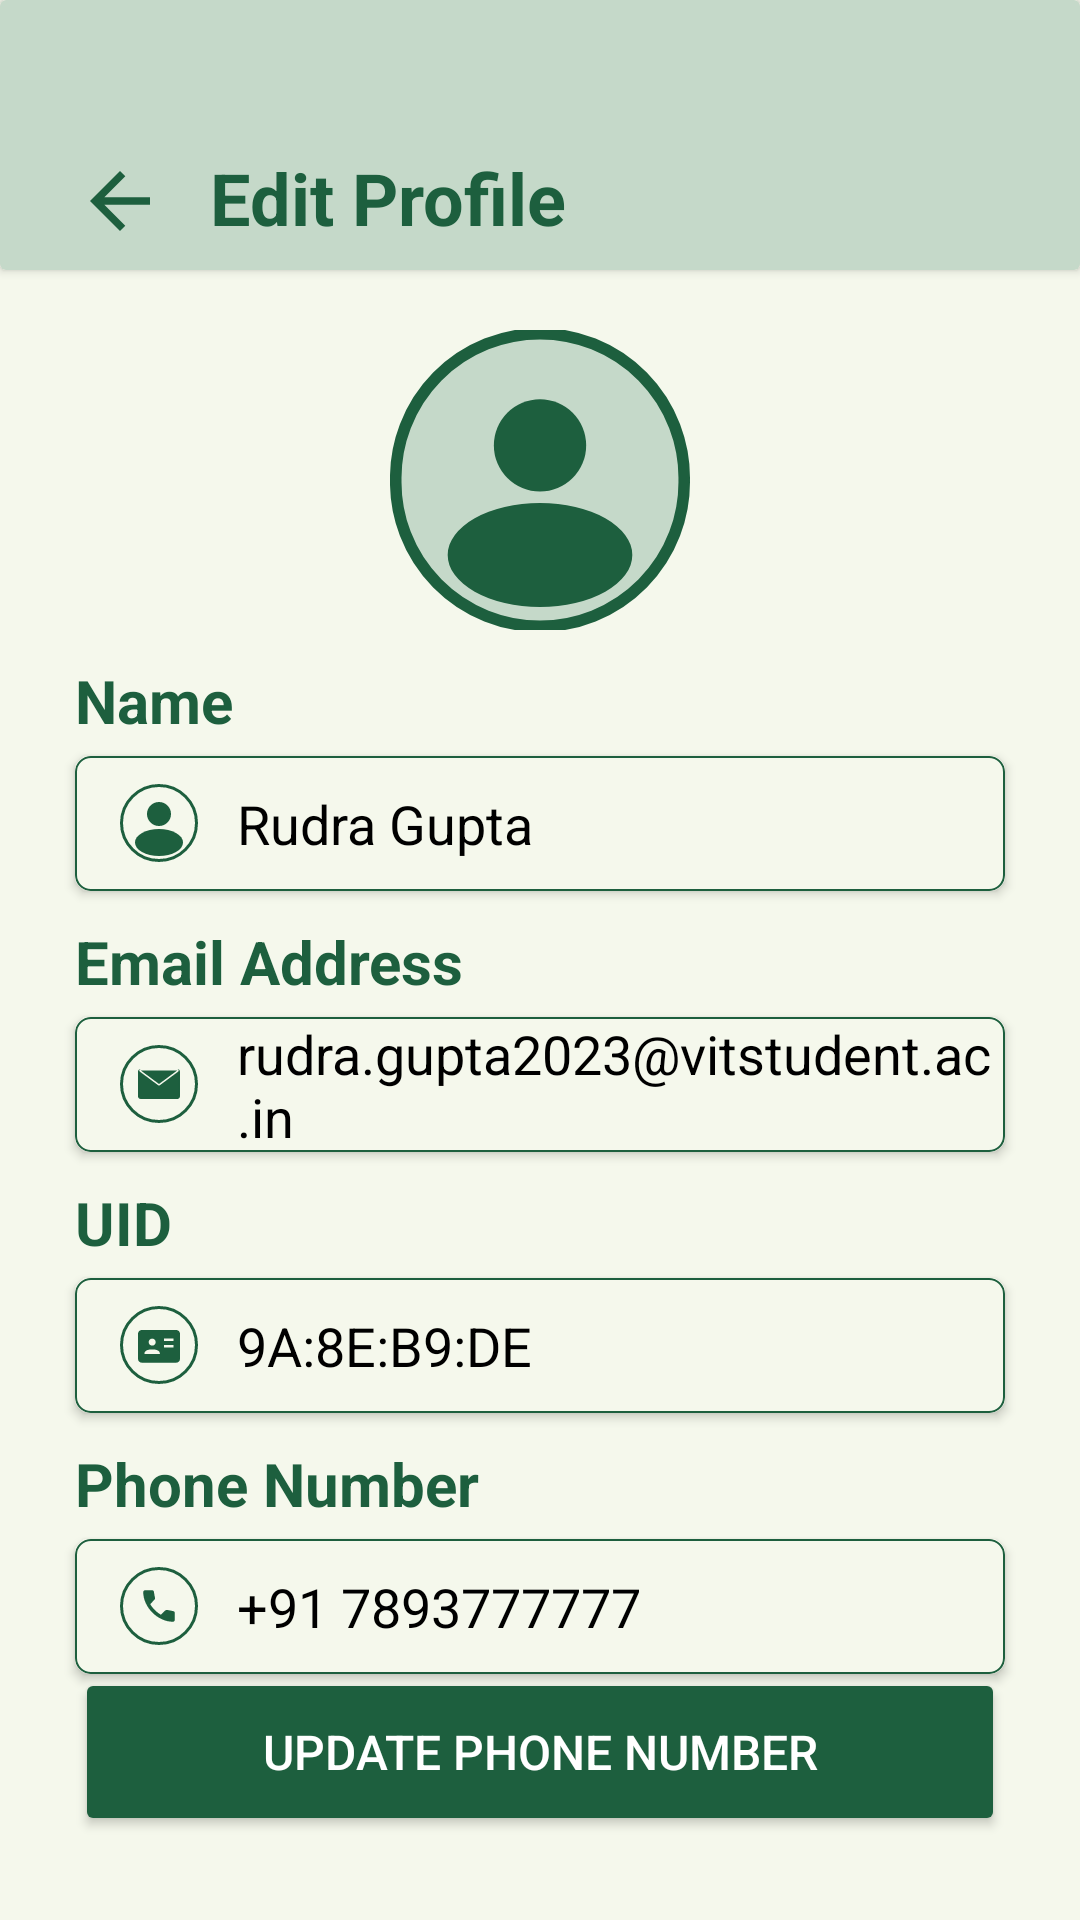

Screen size 1080×1920. Icon name, then its center in pixels as point (x, y):
arrow back: point (120, 201)
phno: point (159, 1606)
